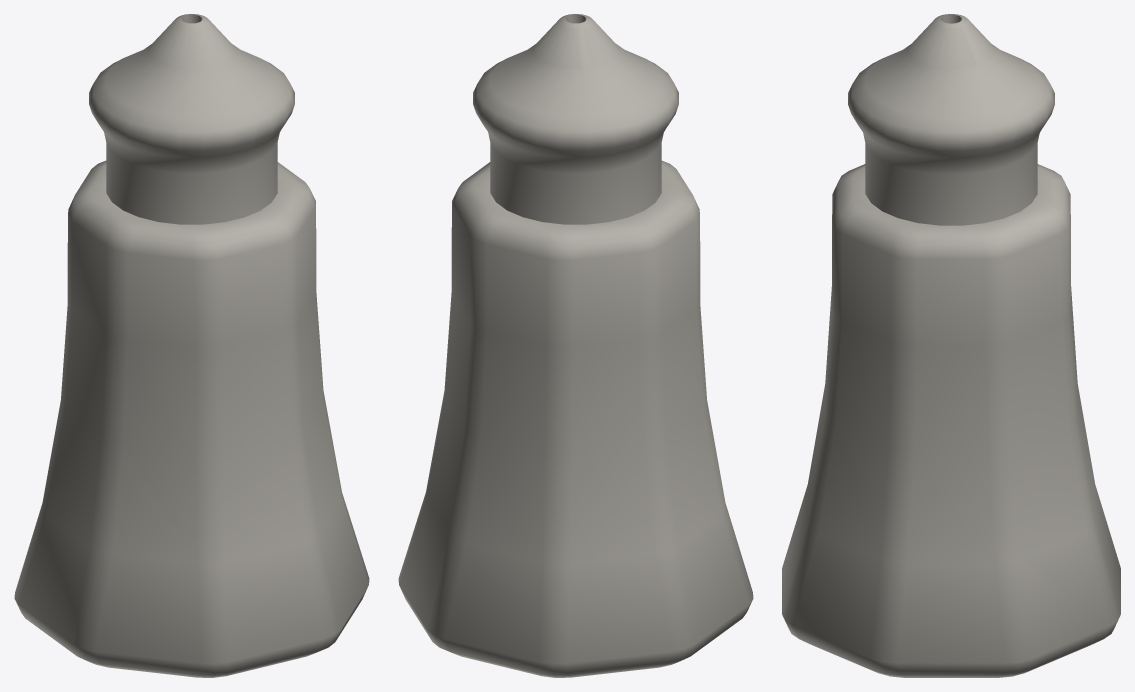
File: salt_shaker.glb
3 renders of one model, left to right at view 1: azimuth 30°, elevation 25°; view 2: azimuth 150°, elevation 25°; view 3: azimuth 270°, elevation 25°, orthographic.
Parts seen in each view (by area): view 1: salt_shaker; view 2: salt_shaker; view 3: salt_shaker.
Part boxes in pixels (x1,y1,x2,y2): salt_shaker: (14, 14, 369, 677); salt_shaker: (398, 14, 753, 677); salt_shaker: (782, 14, 1120, 677).
Bounding box in the file's own units: 0.0515 × 0.0999 × 0.0515.
1 material, 1 textured.
